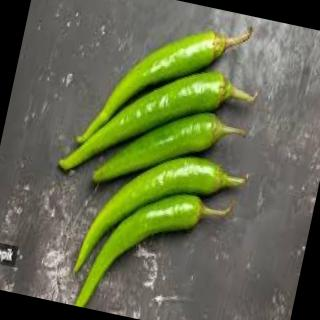Cabai Hijau: (73, 143, 262, 310), (75, 7, 234, 165), (71, 172, 205, 320), (89, 94, 217, 206)
